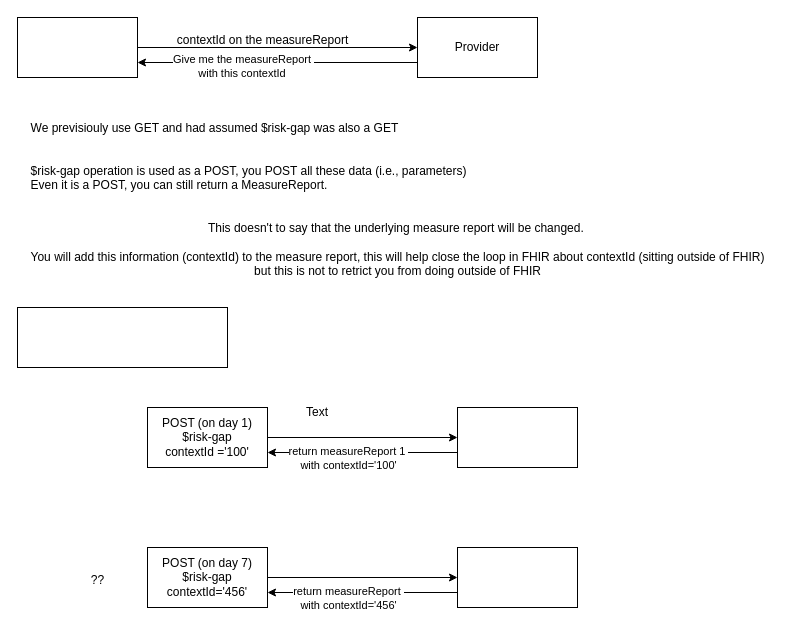
Some shapes in this 795 by 628 pixel diagram are drawn without their labels. The shapes that lost their labels are listed below. From the top down, each one's centre as x and y in pixels, then its label:
point 77,47: Payer generates the report
point 122,337: Add the contextId to the MeasureReport so it's persisted from FHIR perspective
